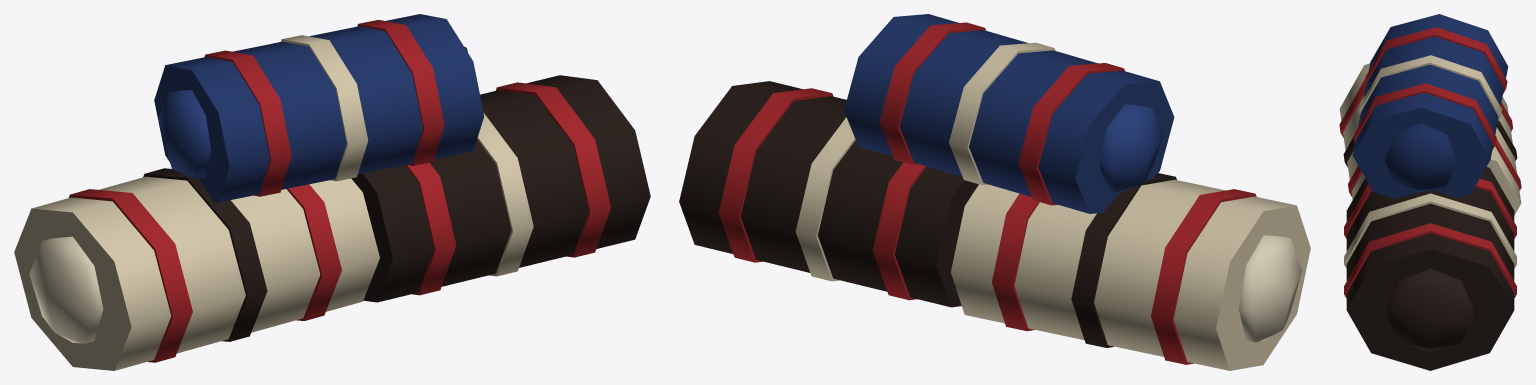
Rendered from sacks_pile.glb.
The picture shows the model from 3 angles, left to right: view 1: azimuth 30°, elevation 25°; view 2: azimuth 150°, elevation 25°; view 3: azimuth 270°, elevation 25°; orthographic projection. The views are drawn at different scales.
Visible parts, largest first — view 1: sacks_pile; view 2: sacks_pile; view 3: sacks_pile.
Boxes of the visible parts, box(x1,y1,x2,y2) form: sacks_pile: box(14, 14, 650, 370); sacks_pile: box(679, 14, 1310, 370); sacks_pile: box(1339, 14, 1521, 370).
Bounding box in the file's own units: 2.15 × 0.9266 × 0.7379.
